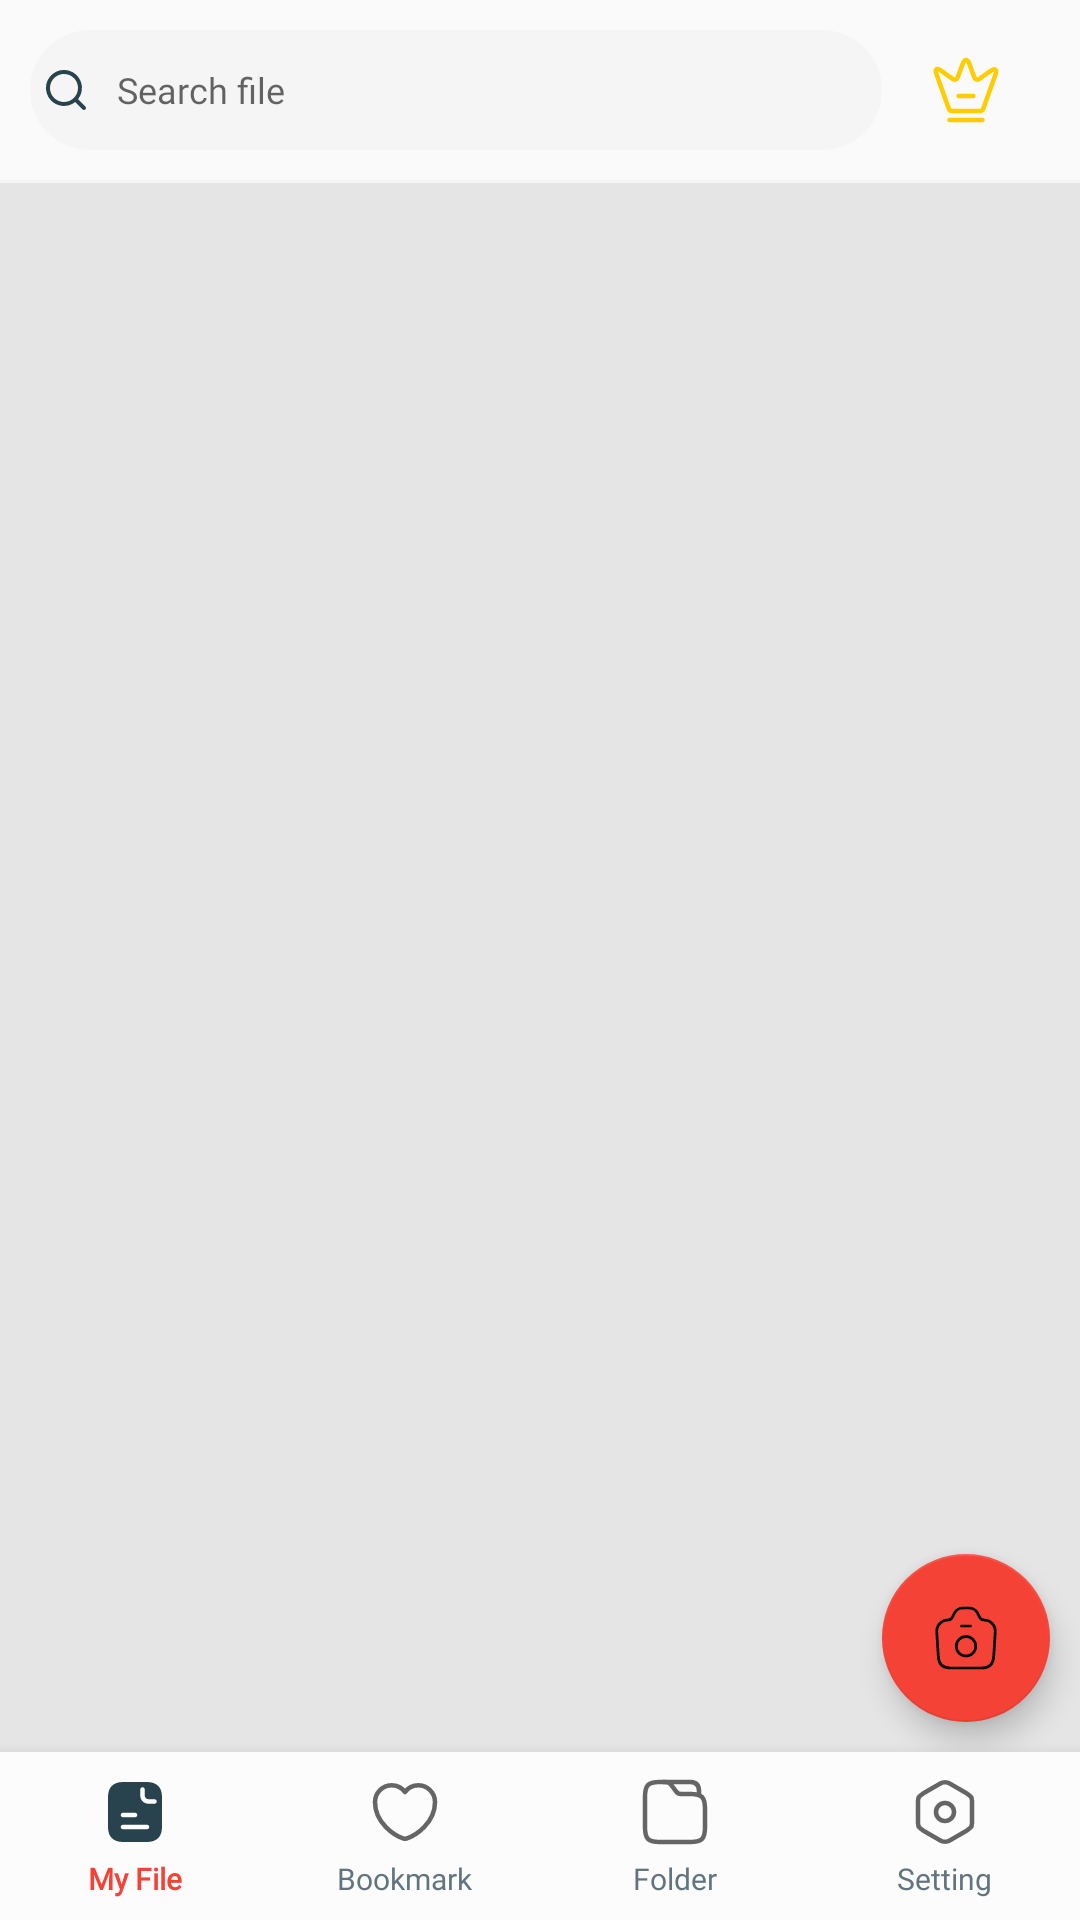

Icons on this 1080w x 1920h Android screen, each with its box as box(x1, y1, x2, y2):
camera float: box(882, 1554, 1050, 1722)
crown: box(933, 57, 999, 123)
